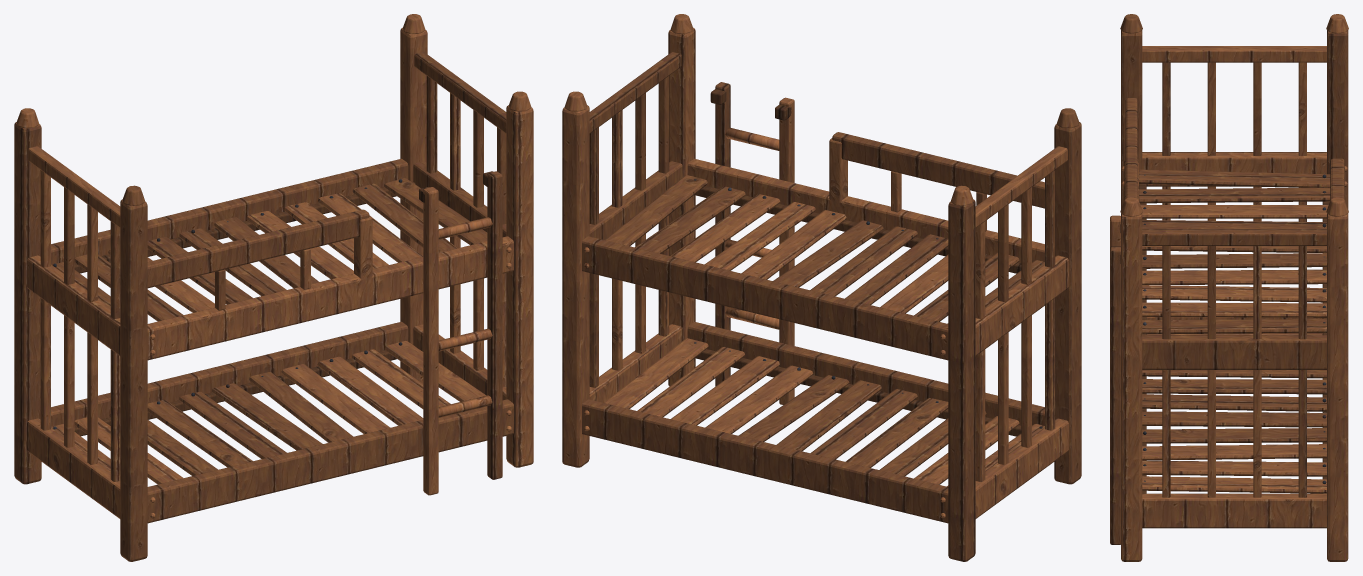
Rendered from bunk_bed.glb.
3 views of the same model, side by side, from view 1: azimuth 30°, elevation 25°; view 2: azimuth 150°, elevation 25°; view 3: azimuth 270°, elevation 25° (orthographic). The views are drawn at different scales.
Parts seen in each view (by area): view 1: model; view 2: model; view 3: model.
Part boxes in pixels (x1,y1,x2,y2): model: [14, 14, 533, 561]; model: [562, 14, 1081, 561]; model: [1110, 14, 1348, 561].
Size of the model in its own units: 1.9 by 1.65 by 0.997.
Materials: 5 (5 with a texture image).
